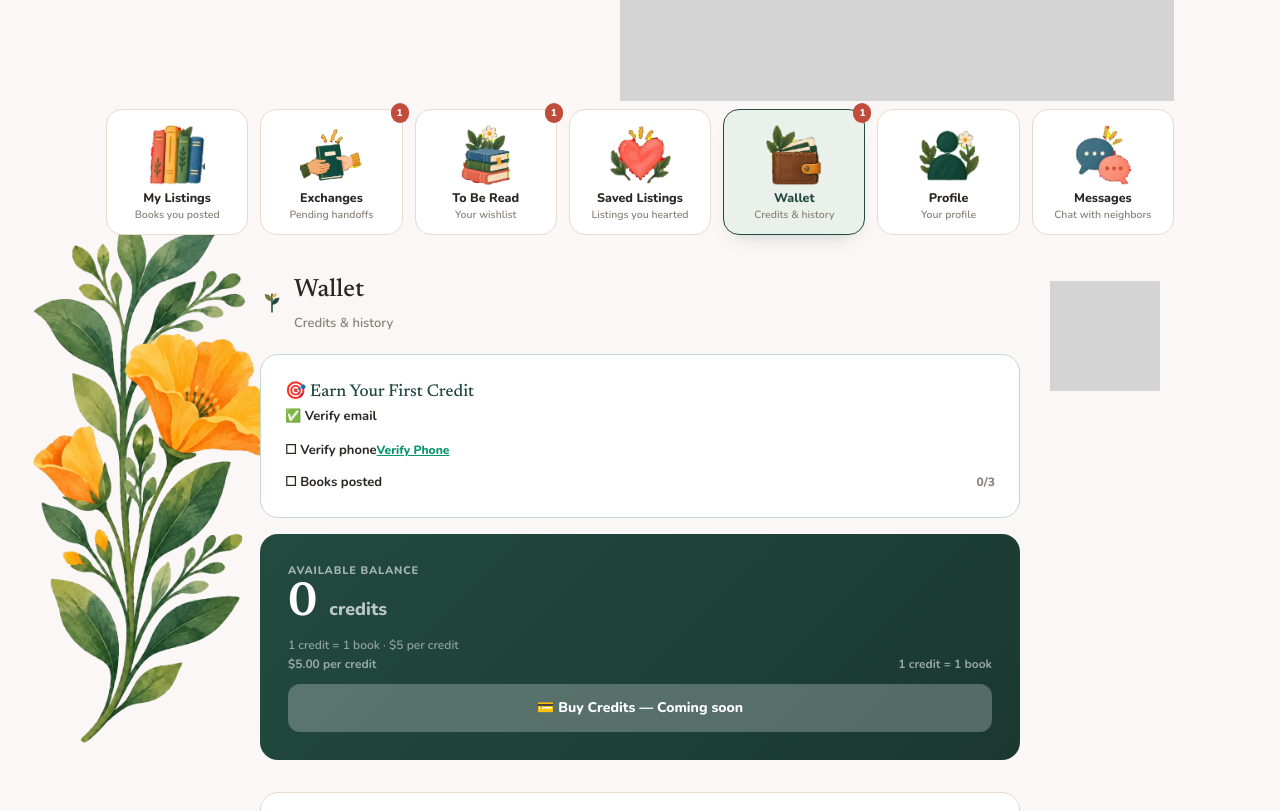
Test: DashboardClient — phone verification › does not refresh when verification fails
(page scrolled)
Click the button "Verify Phone".
click(413, 450)  # box [377,441,449,460]
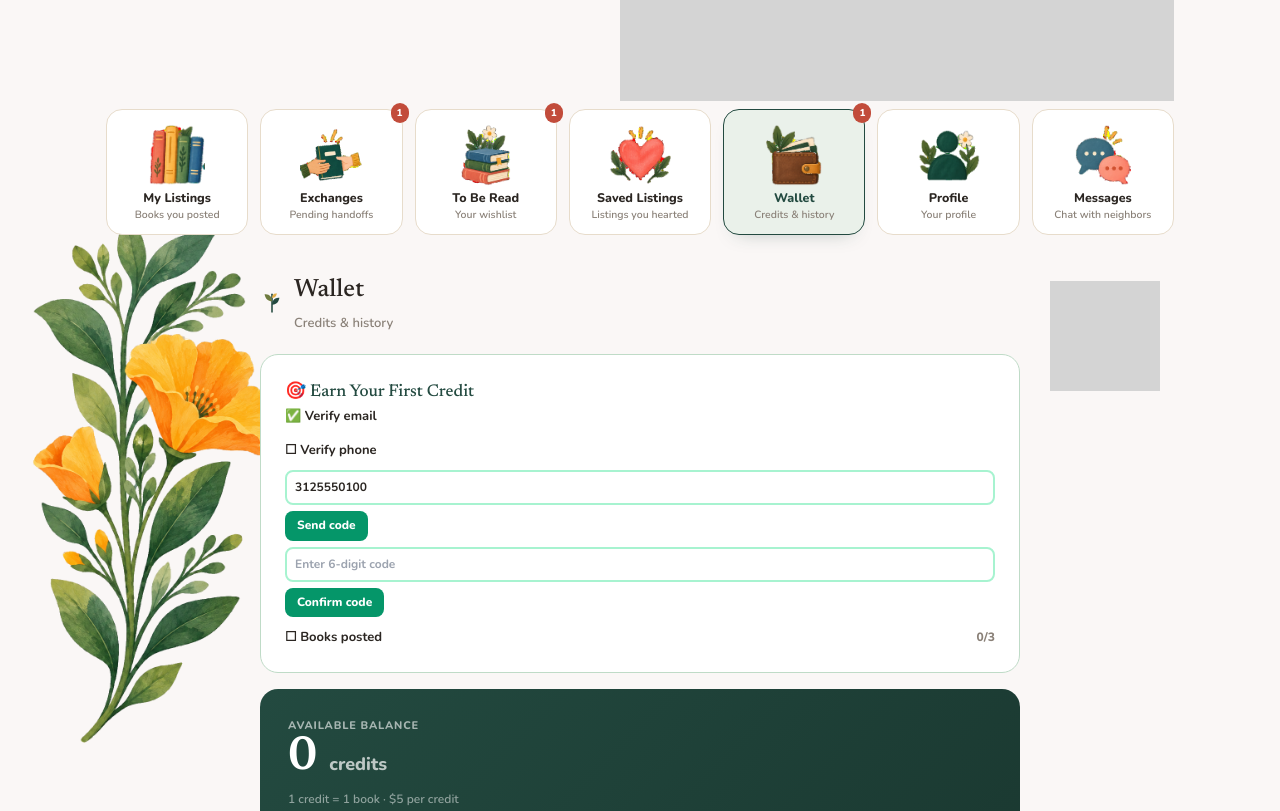
Type "000000" into the field with placeholder "Enter 6-digit code".
click(640, 564); type("000000")  # box [285,546,995,582]
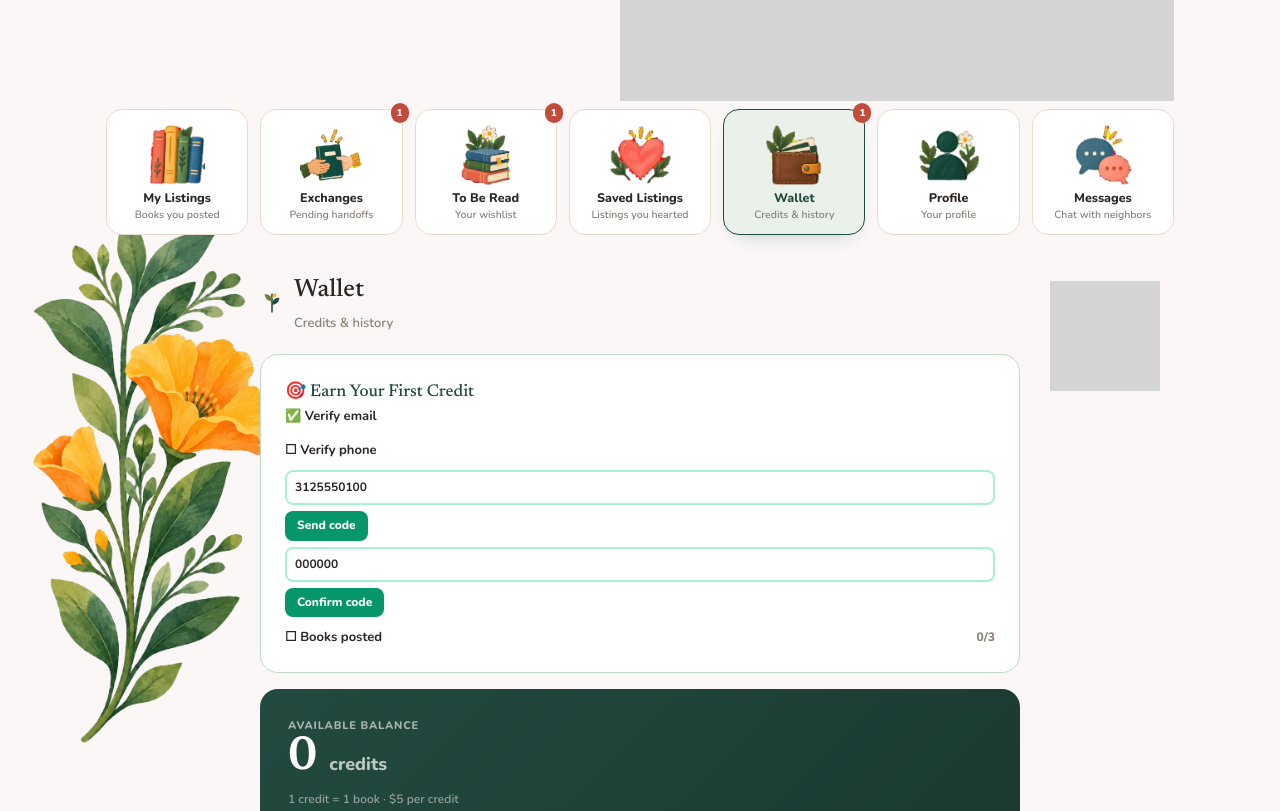
Click the button "Confirm code".
click(335, 602)  # box [285,588,384,617]
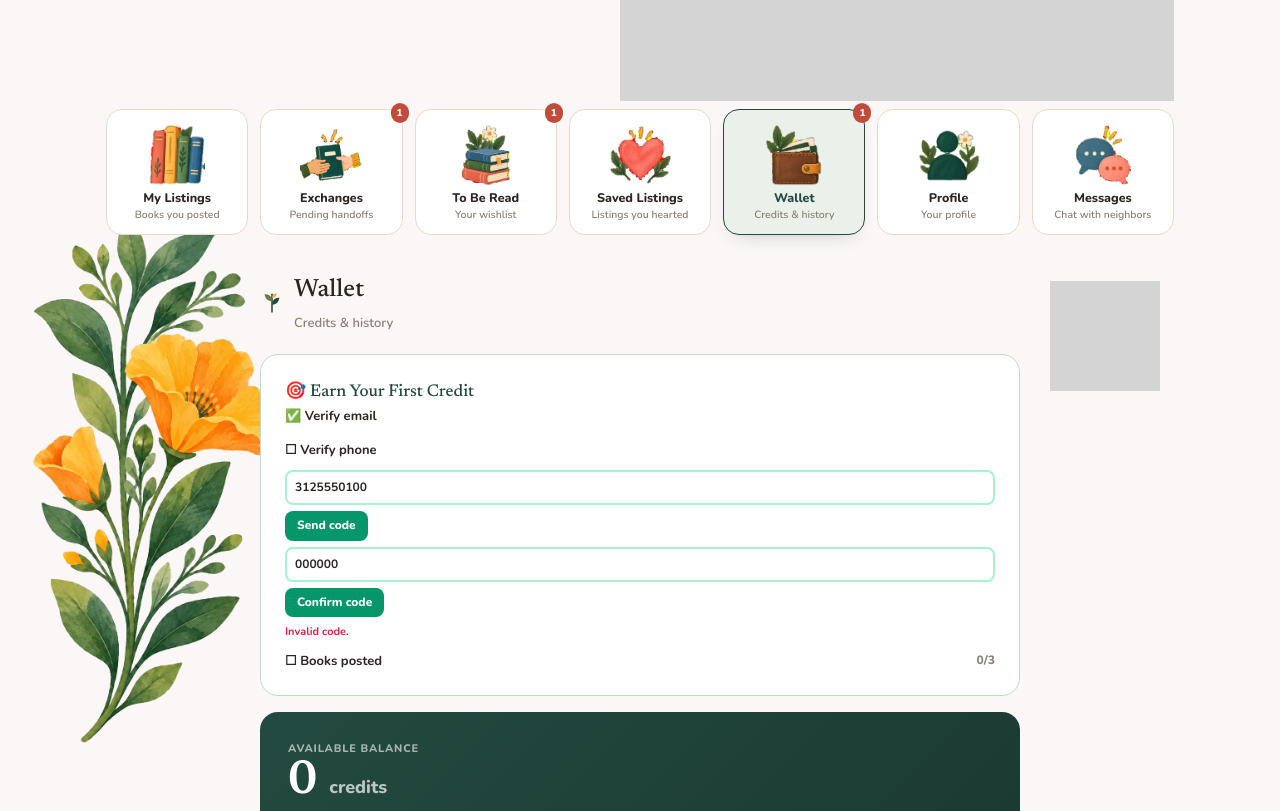
Check: the text "Invalid code." is shown, box [285,624,349,639]
